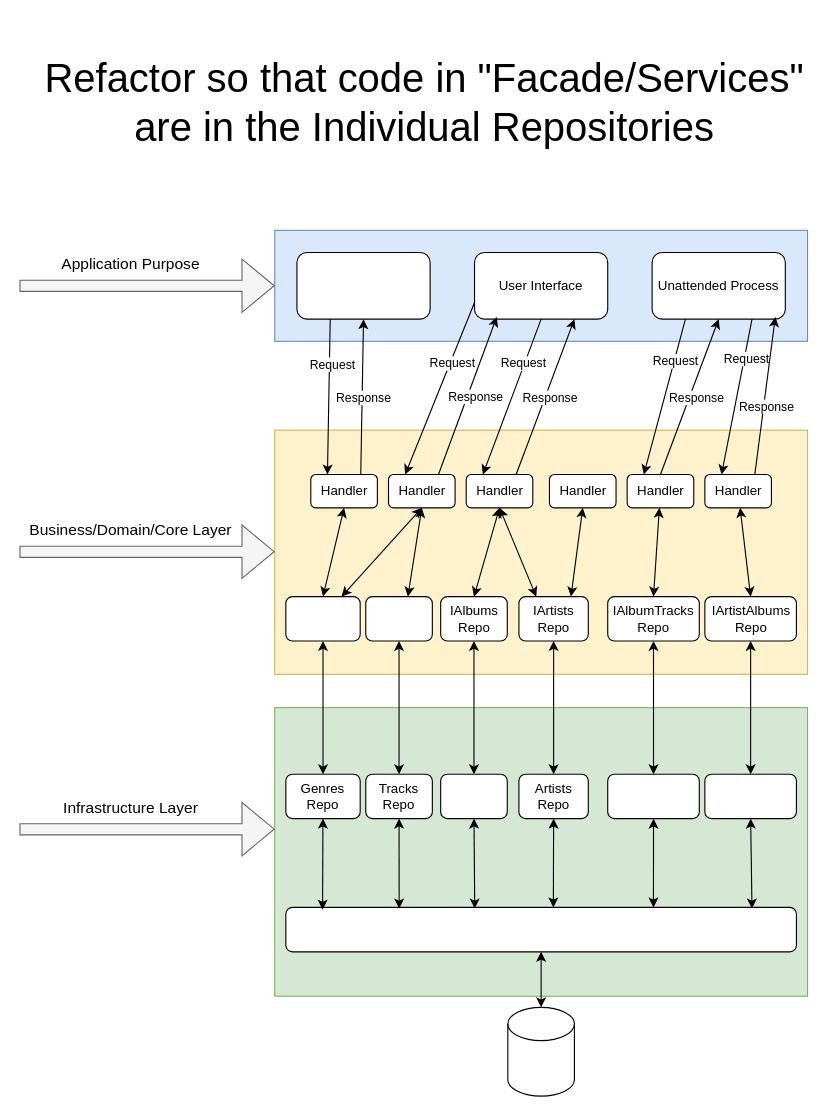
This 837x1116 diagram has some shape labels left out. The shapes that lost their labels are listed below. From the top down, each one's centre as x and y in pixels, then its label:
At (363,285): "REST API".
At (322,618): "IGenres Repo".
At (398,618): "ITracks Repo".
At (473,796): "Albums Repo".
At (653,796): "AlbumTracks Repo".
At (750,796): "ArtistAlbums Repo".
At (540,929): "DBContext".
